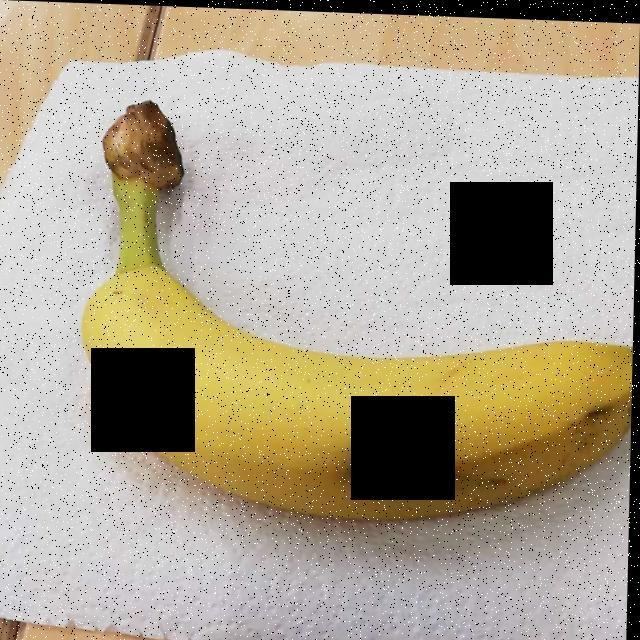banana: (90, 115, 615, 520)
